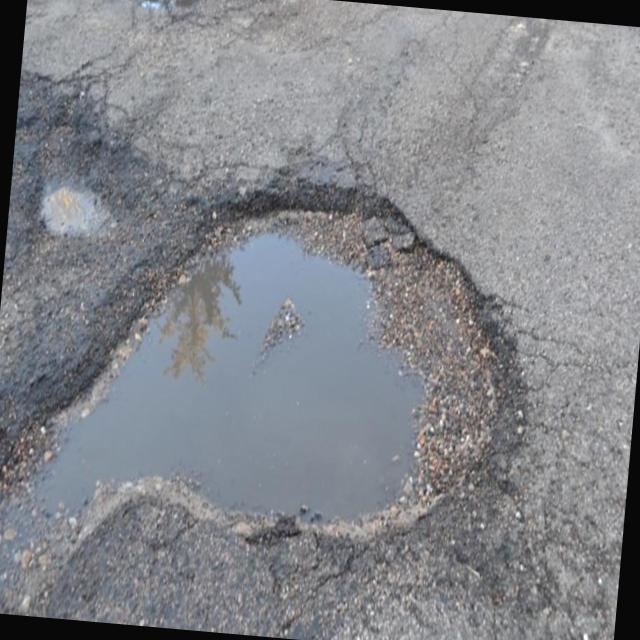bad-road: (0, 150, 523, 640)
